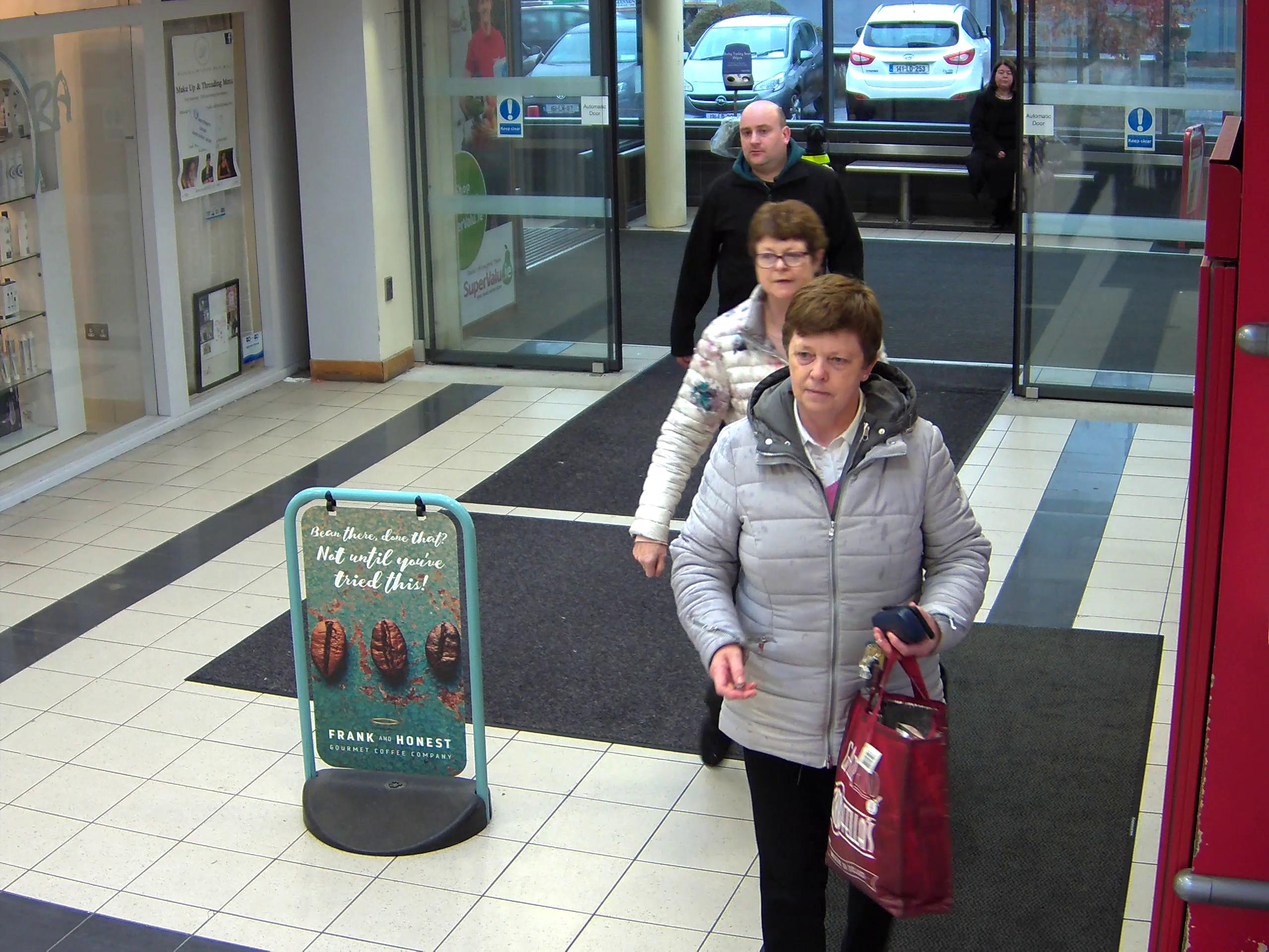filled-shopping-bags: (820, 668, 961, 920)
person: (668, 278, 991, 952)
person-with-filled-shopping-bag-s-: (671, 276, 990, 952)
